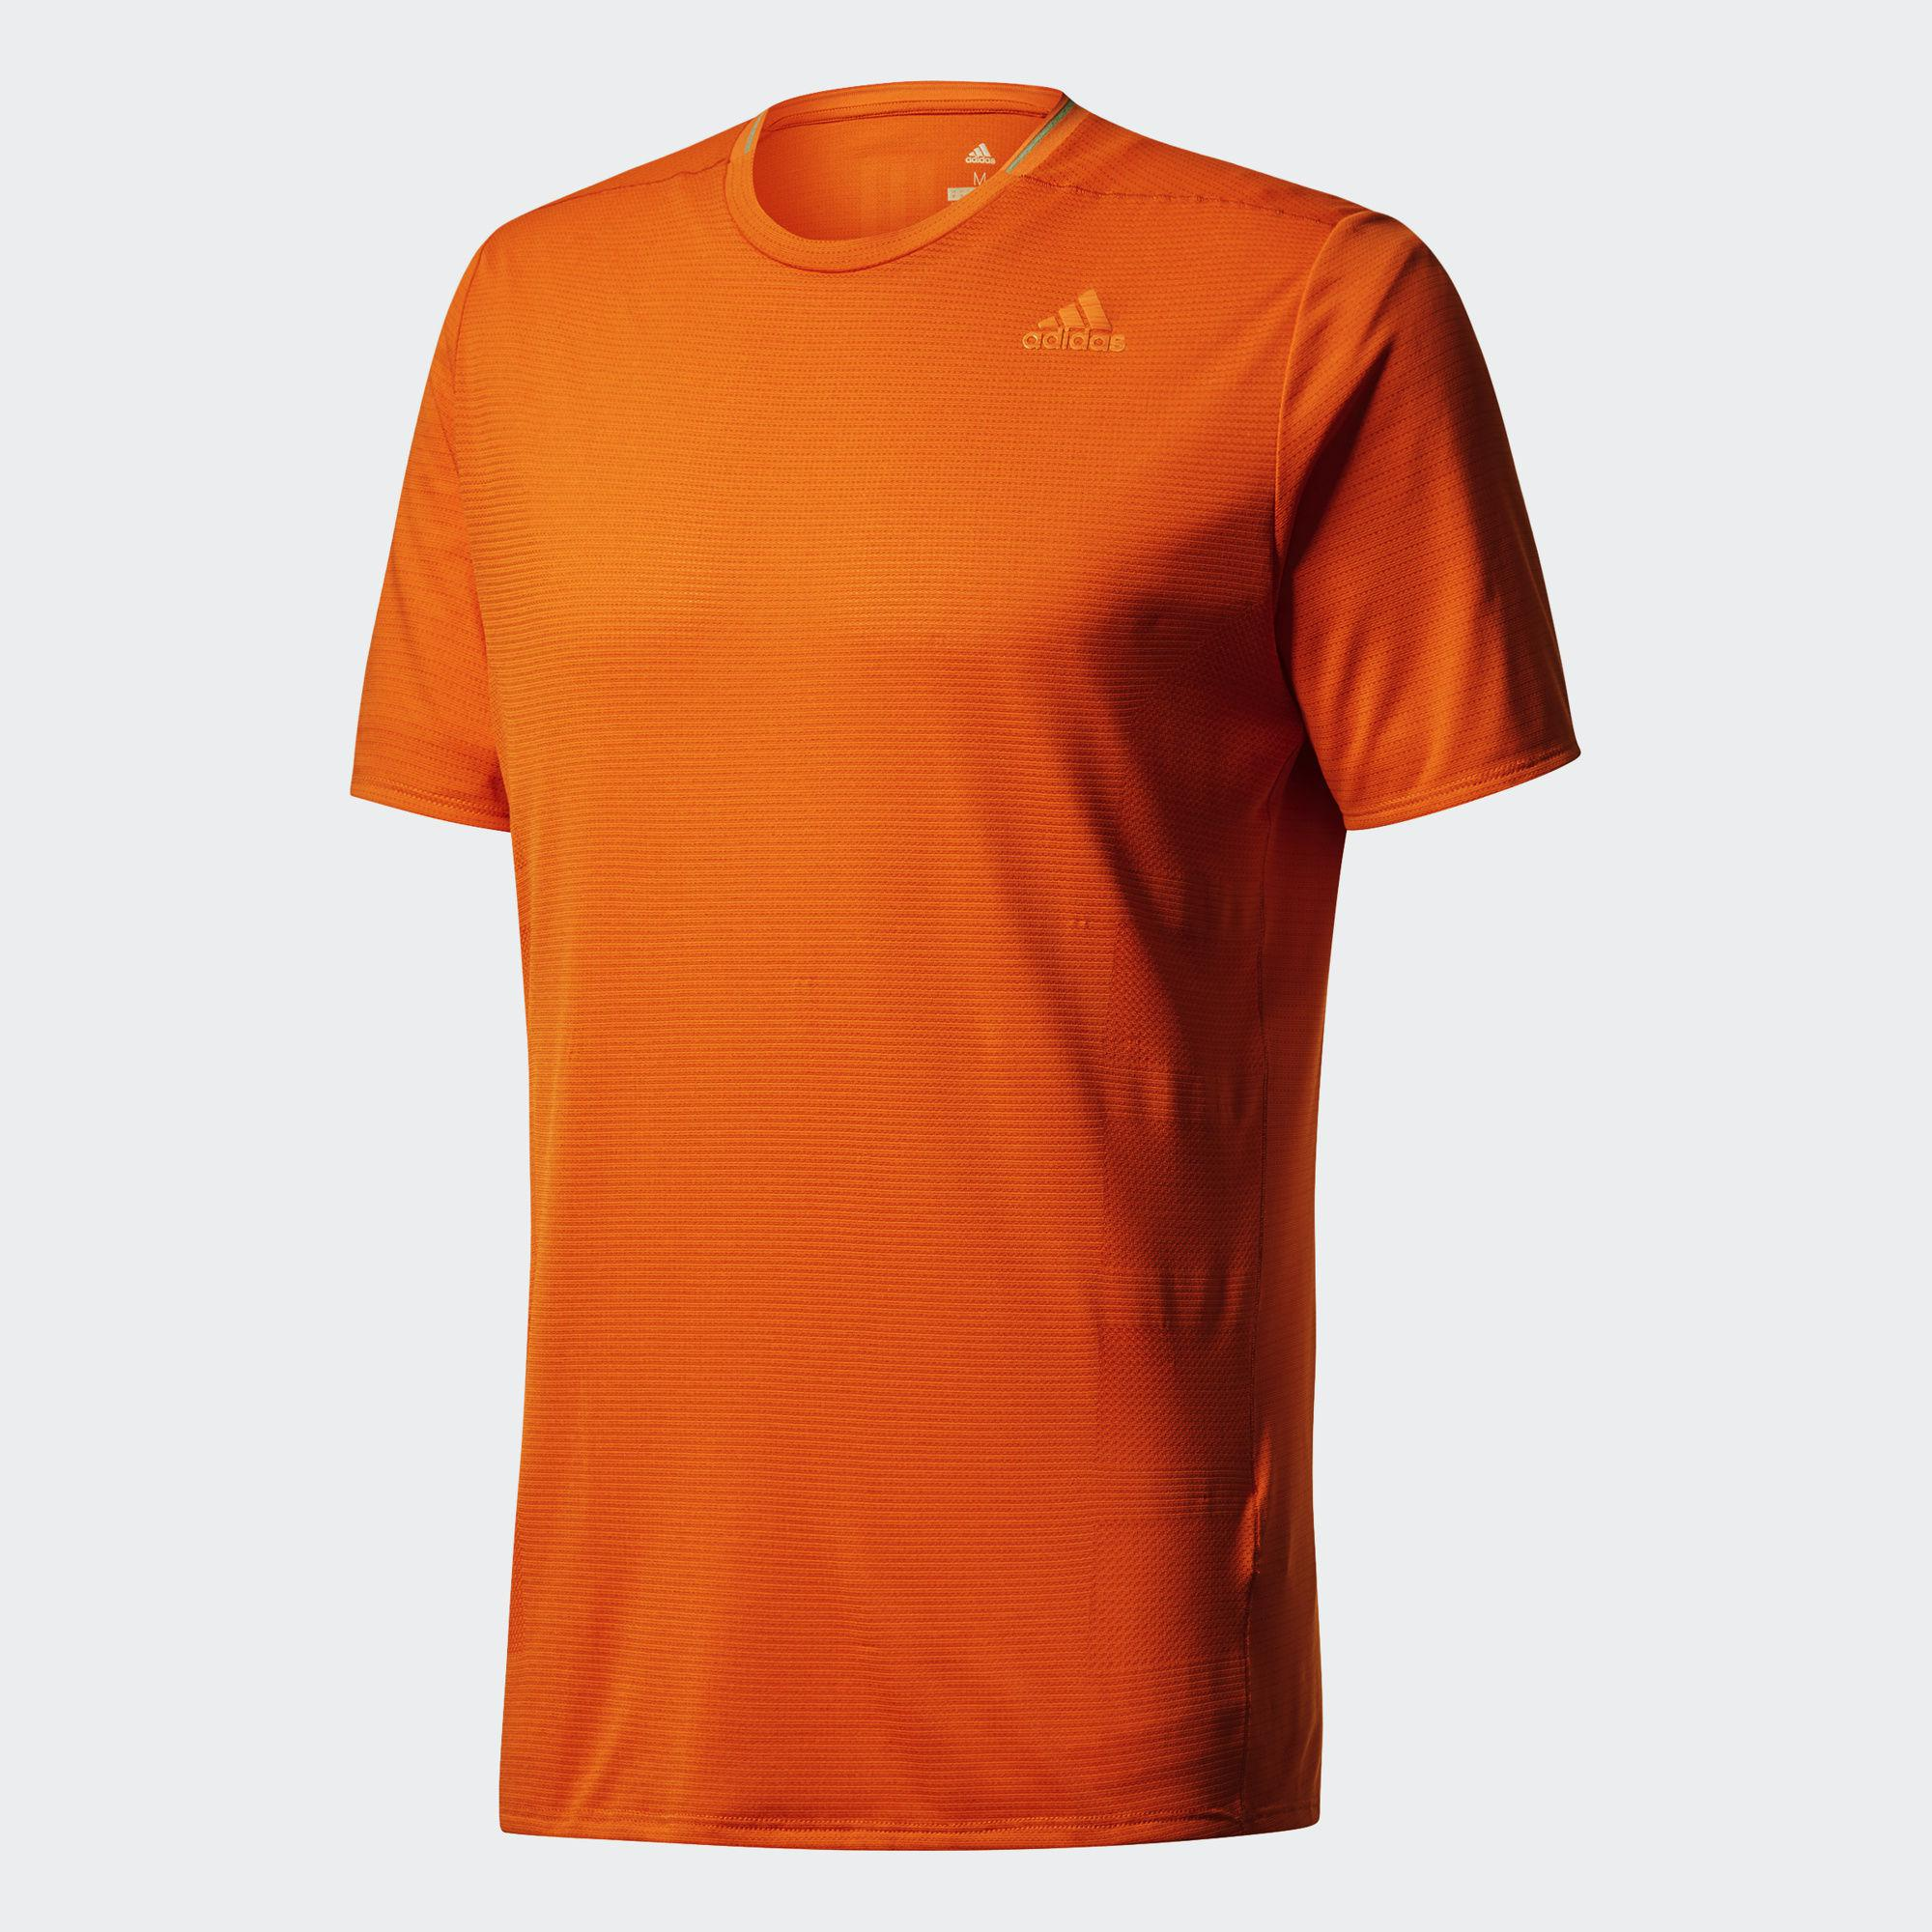teeshirt: (223, 50, 1601, 1932)
